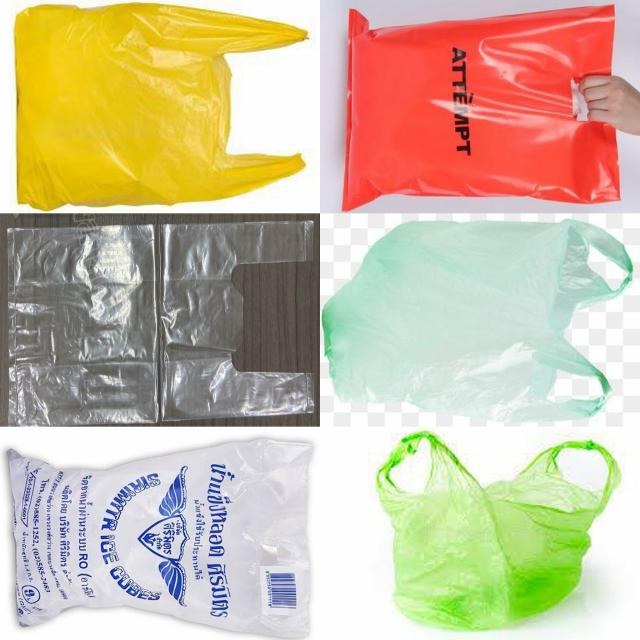Single-layer Plastic: (8, 221, 314, 425), (323, 219, 632, 421), (14, 2, 306, 209), (8, 440, 313, 638), (343, 6, 619, 211), (377, 431, 620, 629)
